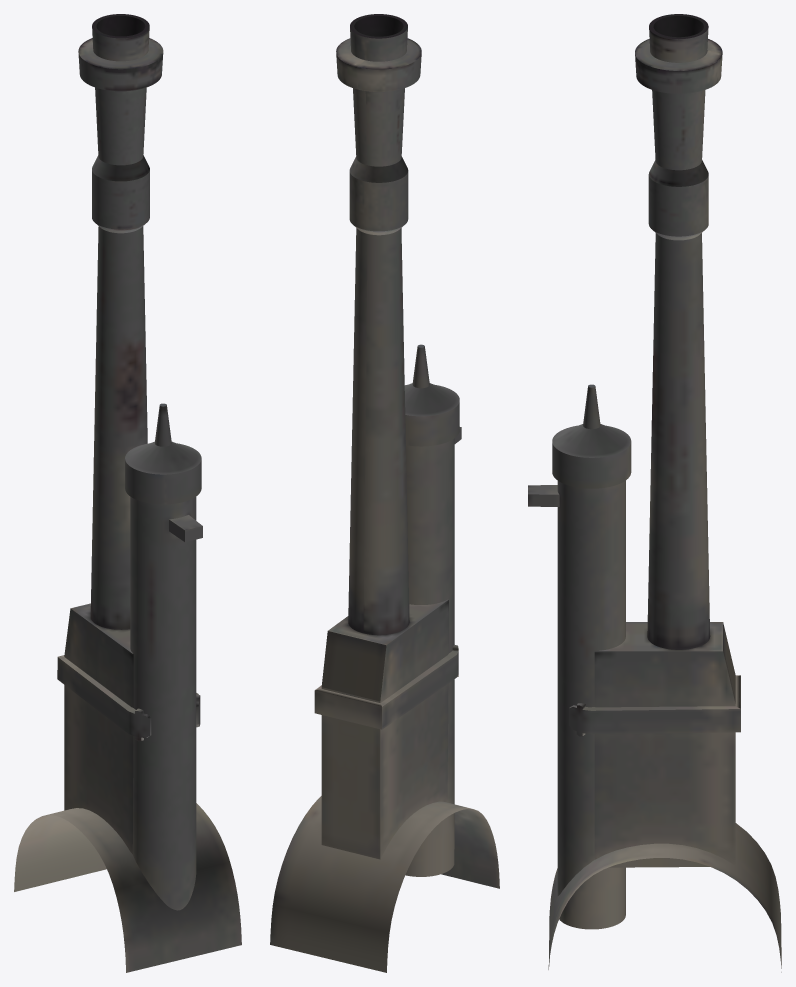
Rendered from Gun_02.glb.
3 views of the same model, side by side, from view 1: azimuth 30°, elevation 25°; view 2: azimuth 150°, elevation 25°; view 3: azimuth 270°, elevation 25° (orthographic). The views are drawn at different scales.
Visible parts, largest first — view 1: set_0_group_0; view 2: set_0_group_0; view 3: set_0_group_0.
Boxes of the visible parts, left/top/right/bottom form: set_0_group_0: left=14, top=14, right=241, bottom=972; set_0_group_0: left=270, top=14, right=499, bottom=972; set_0_group_0: left=528, top=14, right=781, bottom=972.
Bounding box in the file's own units: 0.1948 × 1.43 × 0.3591.
Materials: 1 (1 with a texture image).
